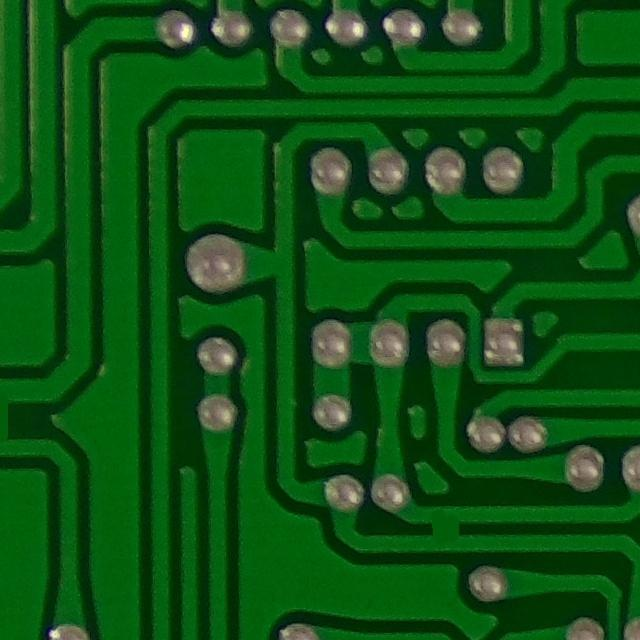short: (415, 502, 475, 557)
